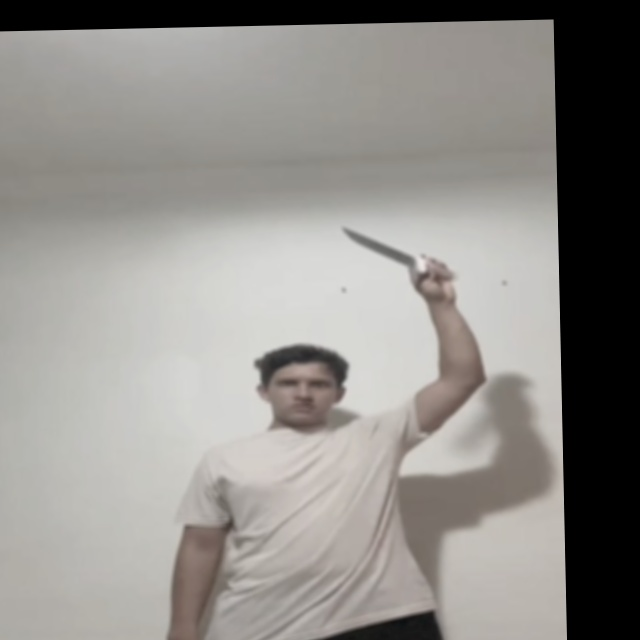Sharp-Object: (342, 226, 414, 267)
